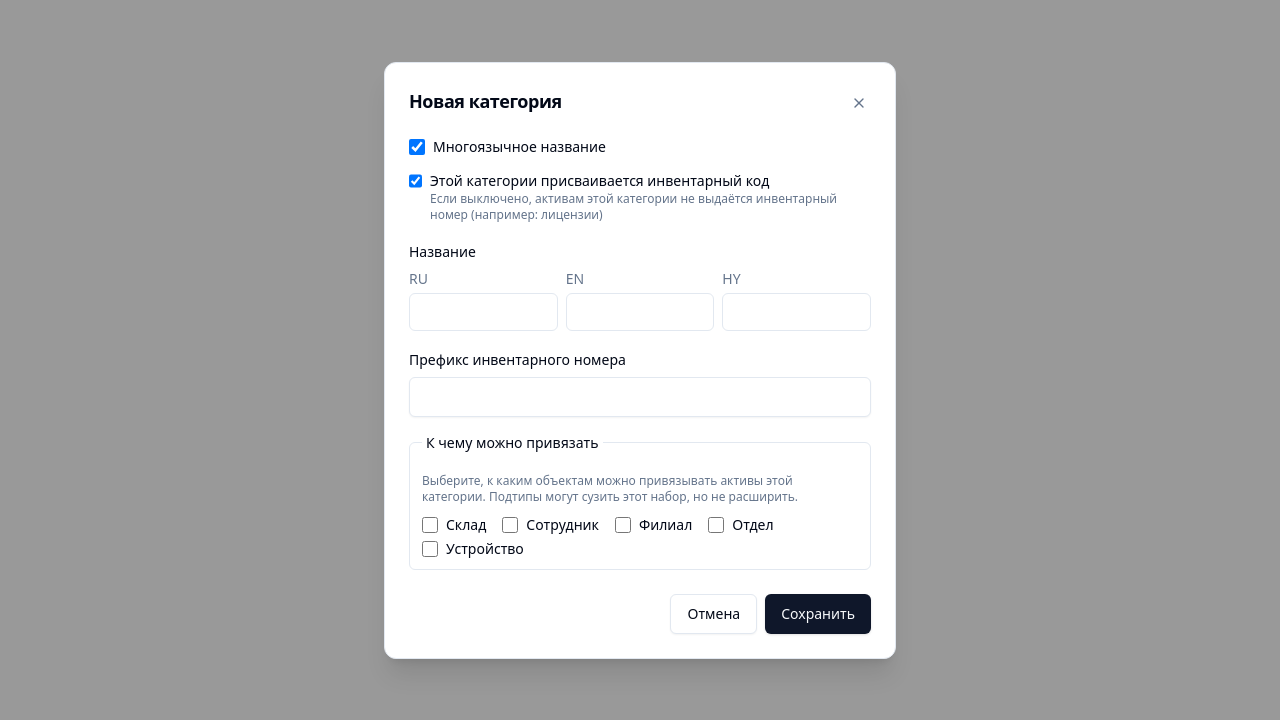
Test case: CategoryFormDialog › shows an error when prefix has invalid format
Fill RU name (multi-lang form by default).
In the field labelled "ru": (483,312) [409, 292, 558, 330], type "Тест"
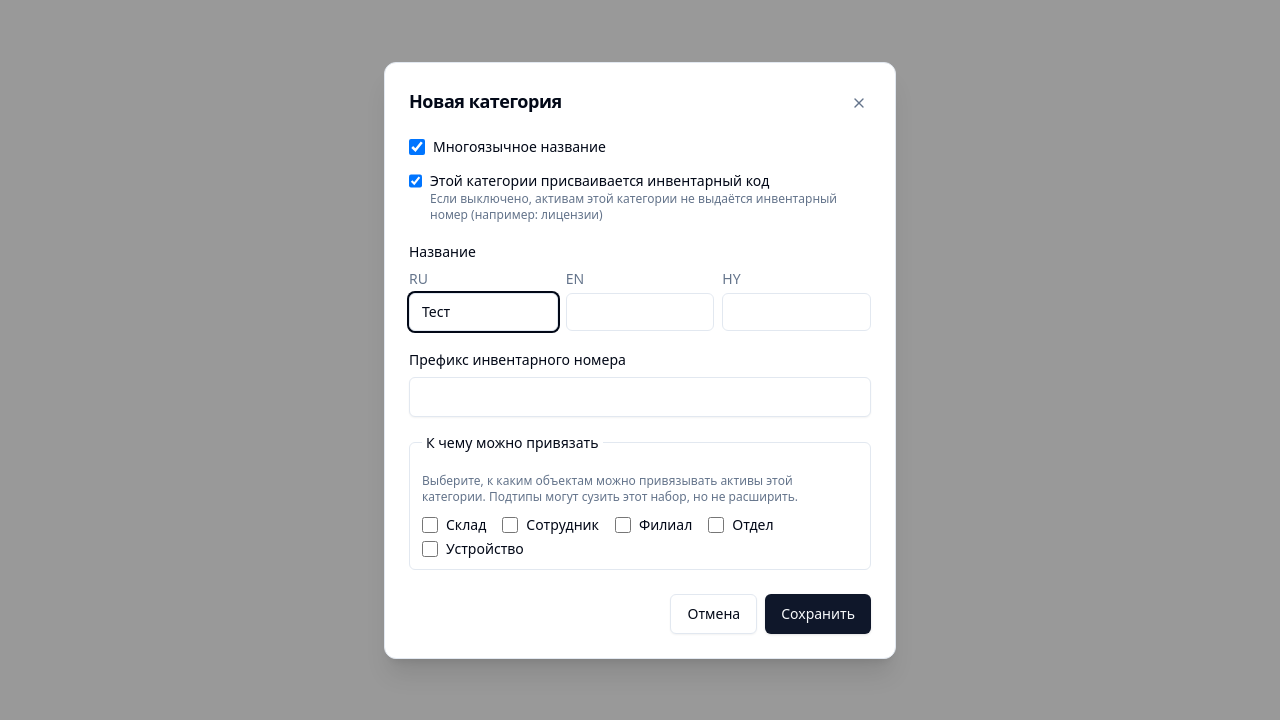
Invalid prefix (lowercase + slash).
In the field labelled "Префикс инвентарного номера": (640,396) [409, 376, 871, 416], type "ab/"
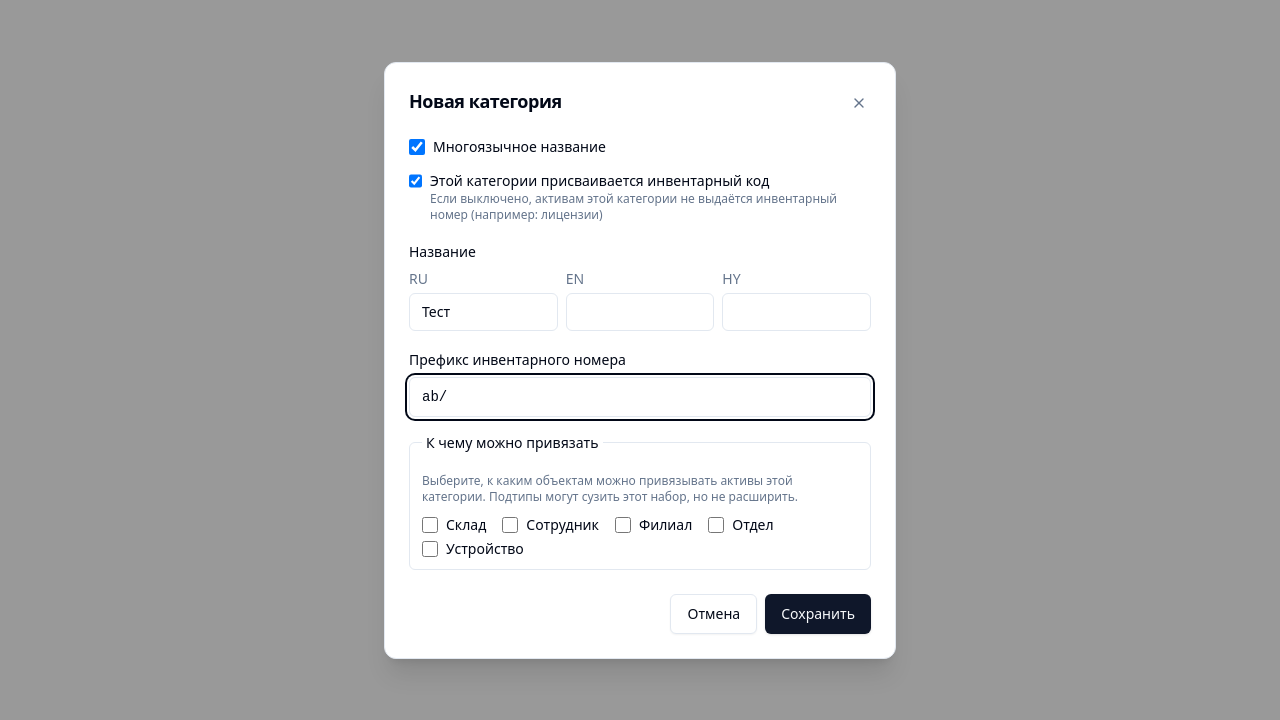
Click the button "Сохранить": (818,614) [765, 594, 871, 634]
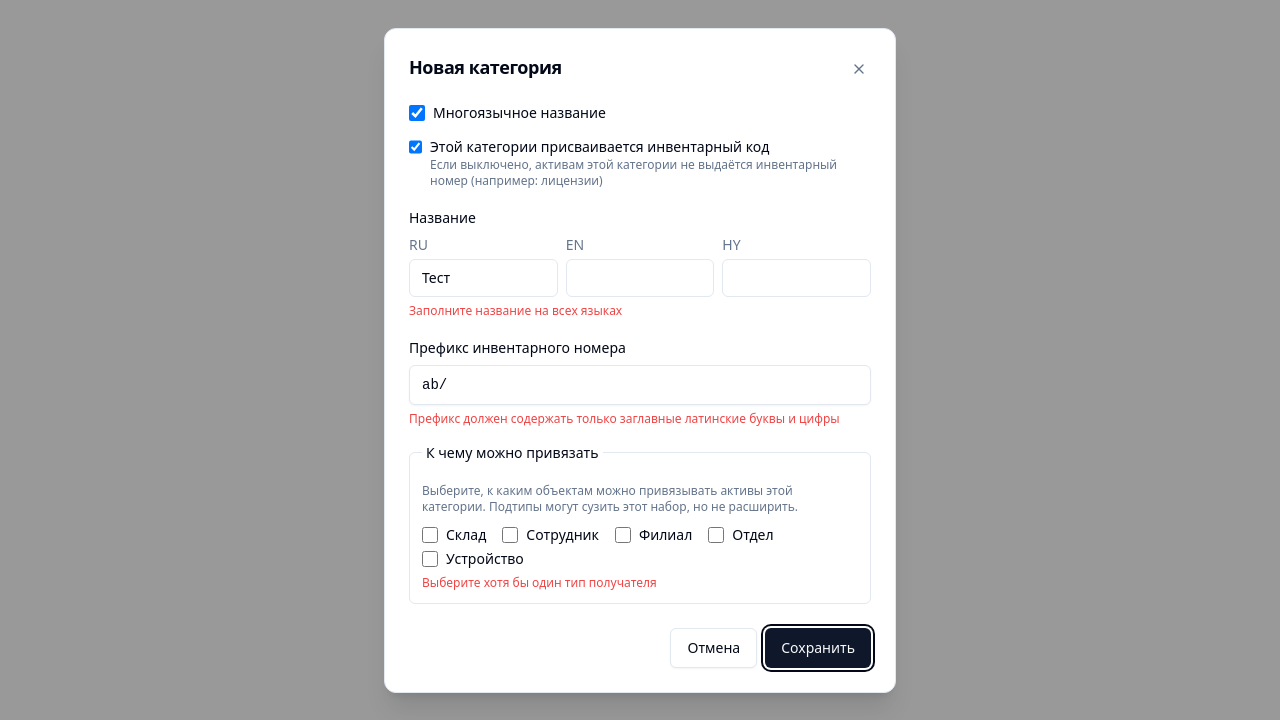
Check: the text "Префикс должен содержать только заглавные латинские буквы и цифры" is shown, box [409, 410, 871, 426]
